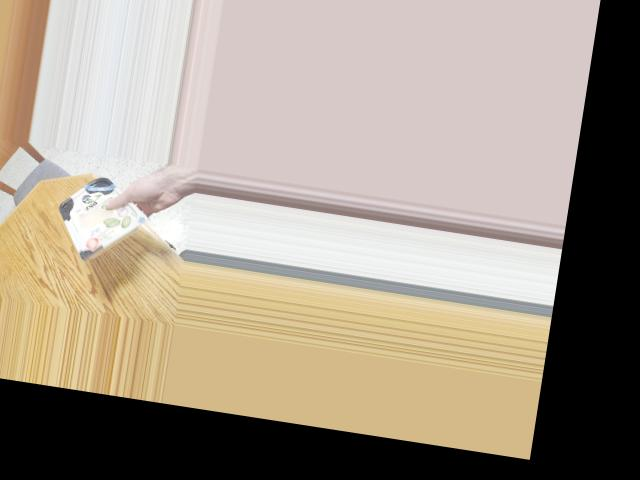cheese: (55, 182, 143, 255)
